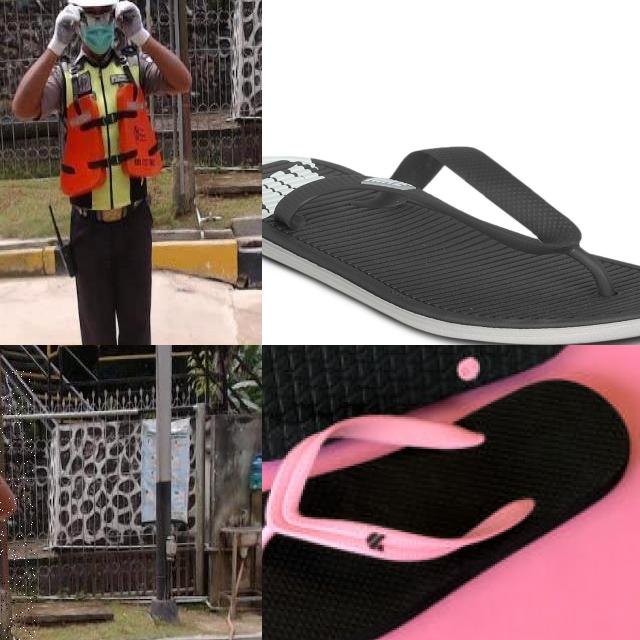Sandals: (262, 345, 640, 640), (262, 145, 640, 345)
head_helmet: (63, 0, 121, 19)
person: (0, 0, 216, 345)
vest: (55, 48, 167, 216)
